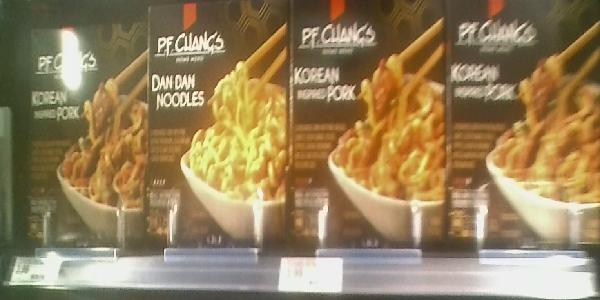pizza1: (291, 1, 447, 249), (449, 1, 600, 252), (147, 2, 287, 241), (19, 20, 149, 249)
